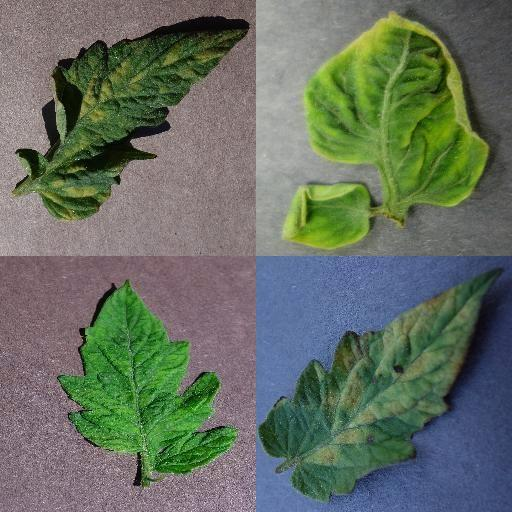Leaf Mold: (258, 267, 505, 503), (15, 26, 247, 224)
Mosaic Virus: (56, 279, 236, 475)
Yellow Leaf Curl Virus: (305, 10, 491, 208), (282, 183, 372, 247)
